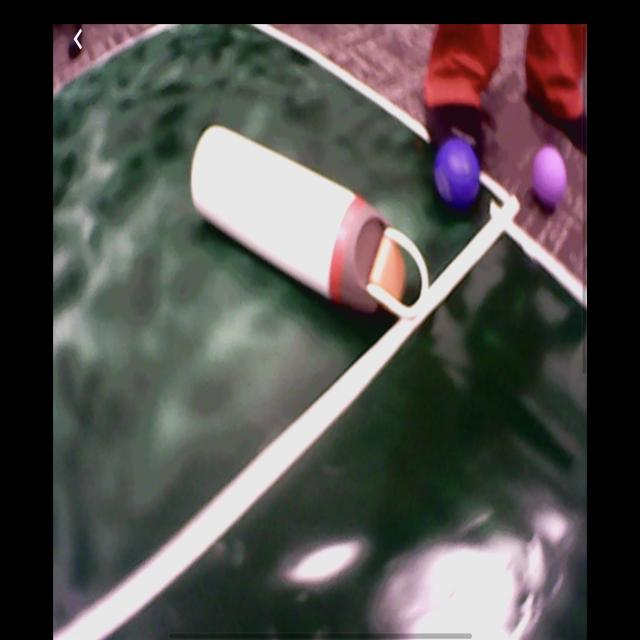ball: (436, 141, 482, 213), (532, 147, 567, 211)
